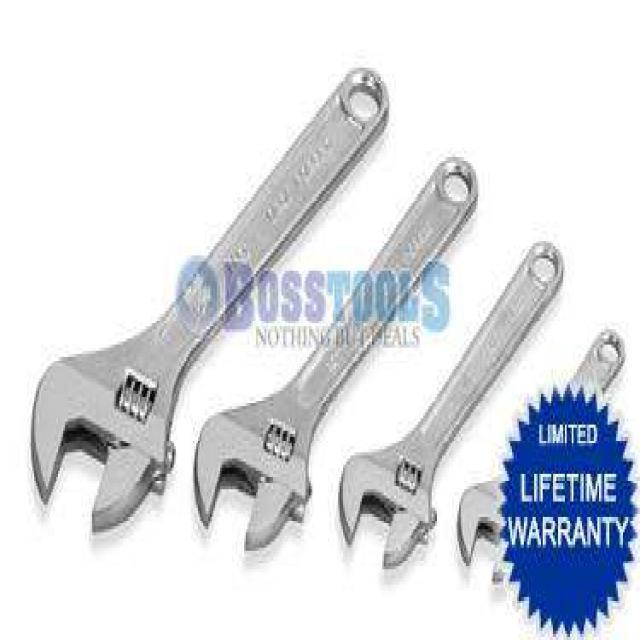wrench: (20, 55, 393, 538), (188, 144, 482, 558), (339, 228, 566, 567)
